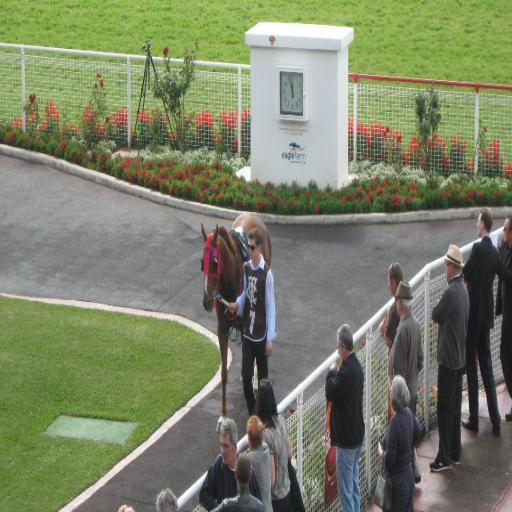Horse: (202, 209, 272, 432)
